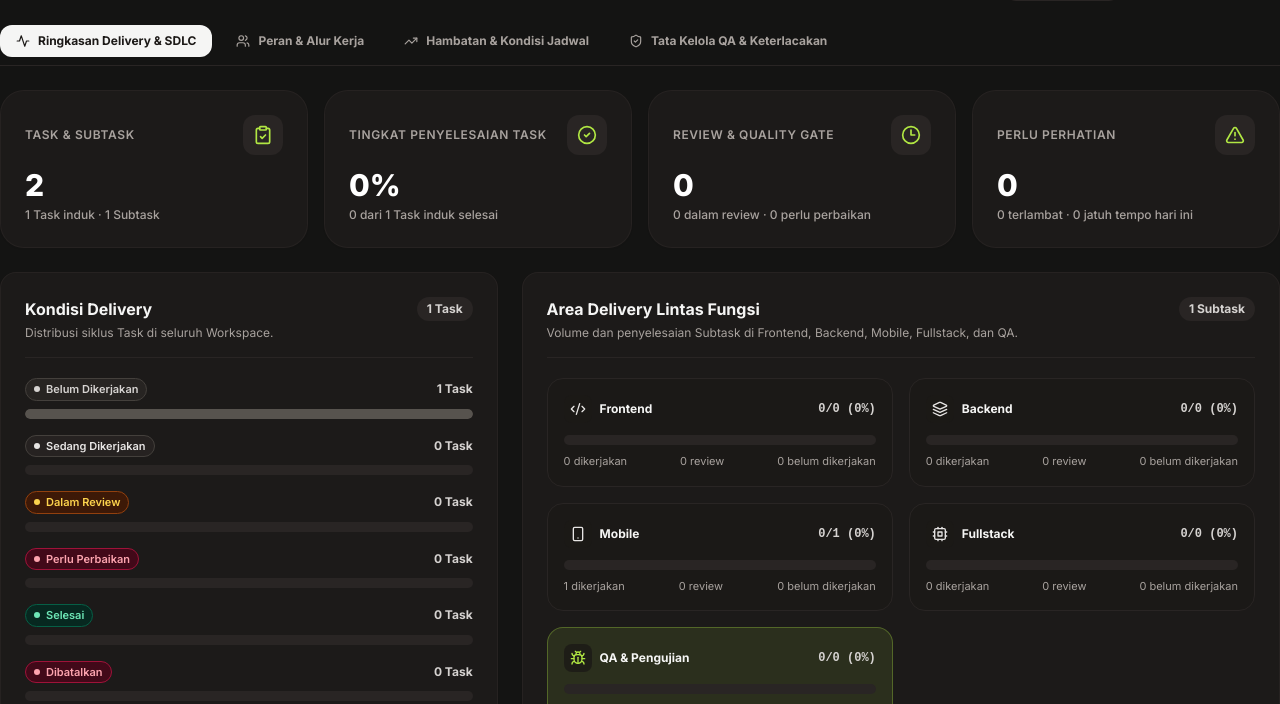
it: TaskReportDashboard › shows Developer specialties beside persisted team workload
The image size is (1280, 704).
Click the button "Peran & Alur Kerja": {"x": 300, "y": 41} left=220, top=25, right=380, bottom=57
(page scrolled)
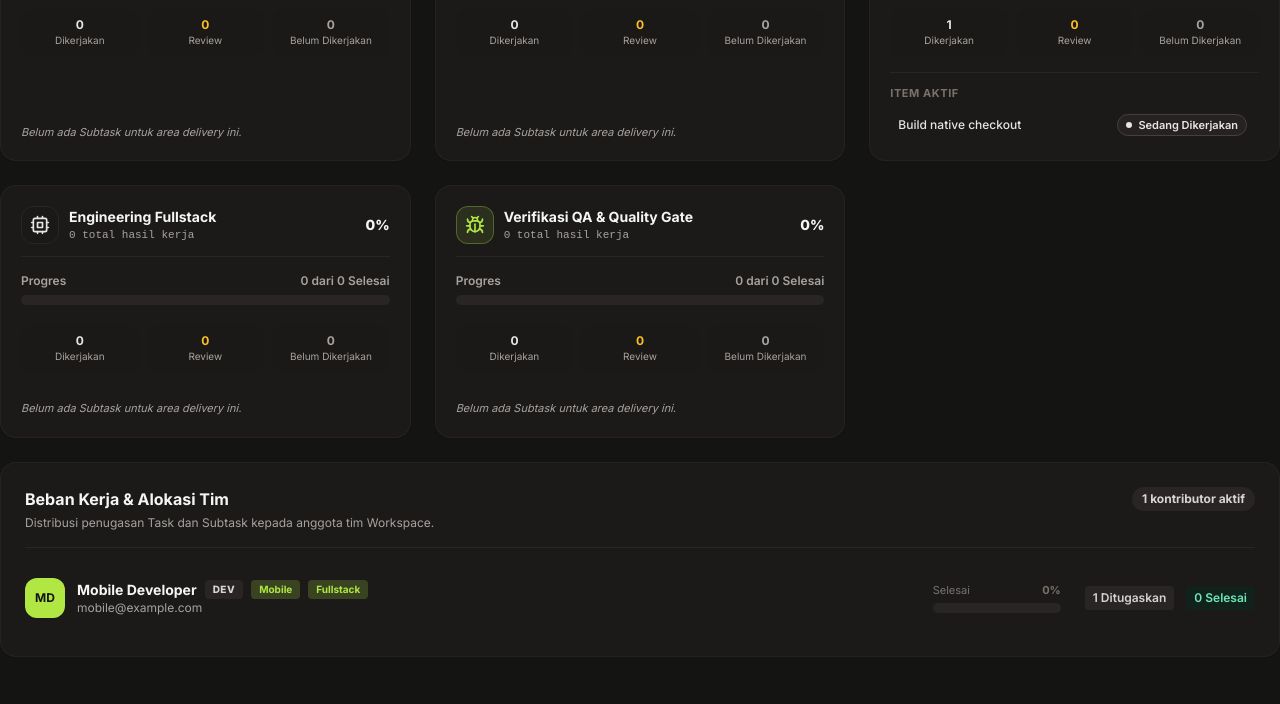
Expected: the text "fullstack" is shown, left=308, top=580, right=368, bottom=599
Now the text "Mobile Developer" is shown, box left=77, top=580, right=197, bottom=600
Now the text "mobile" is shown, box left=251, top=580, right=300, bottom=599
